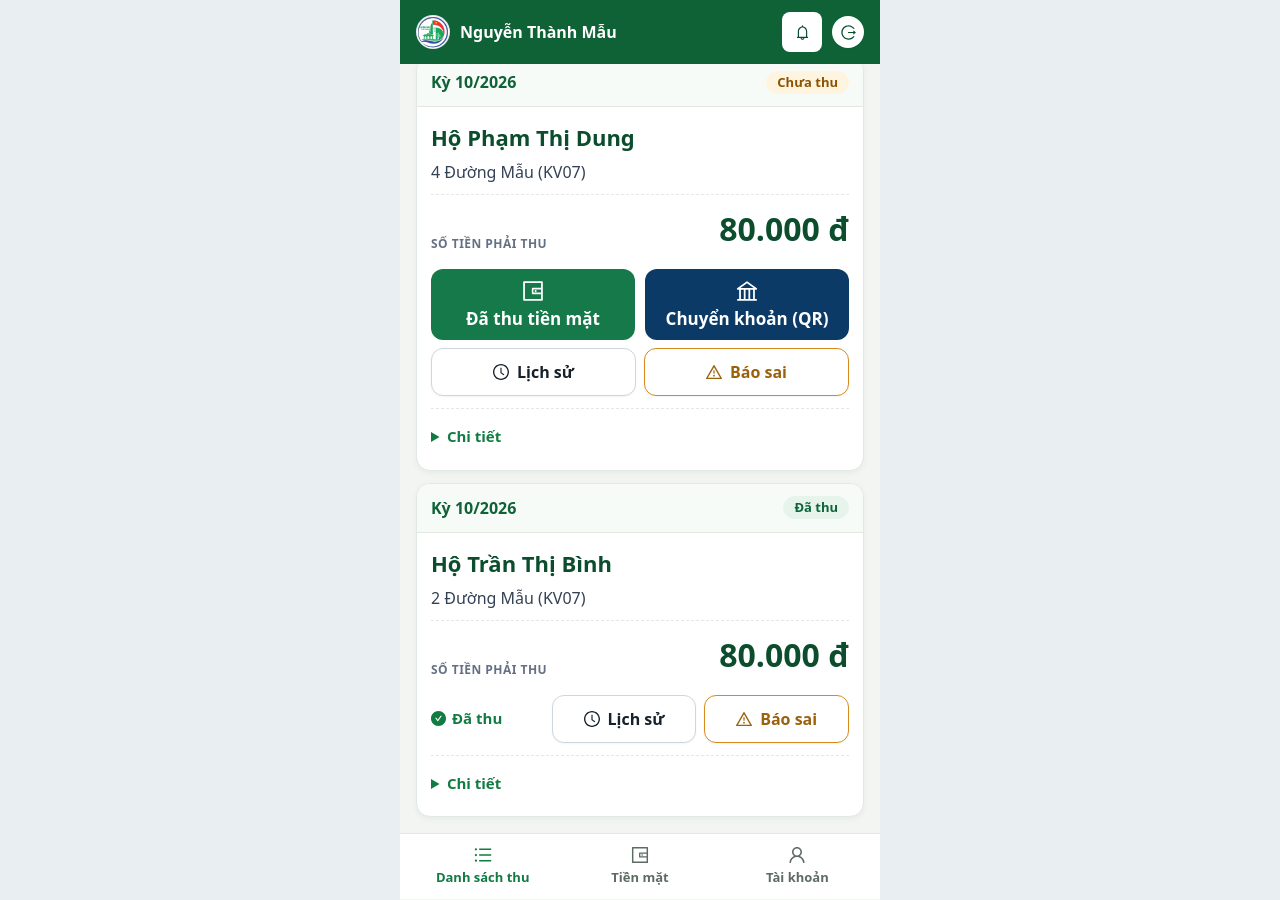
Người đi thu: lịch sử hộ › mở từ danh sách, hiện các lần thu theo thời gian
(page scrolled)
Click the button "Lịch sử" below "2 Đường Mẫu": (624, 719) [552, 695, 696, 743]
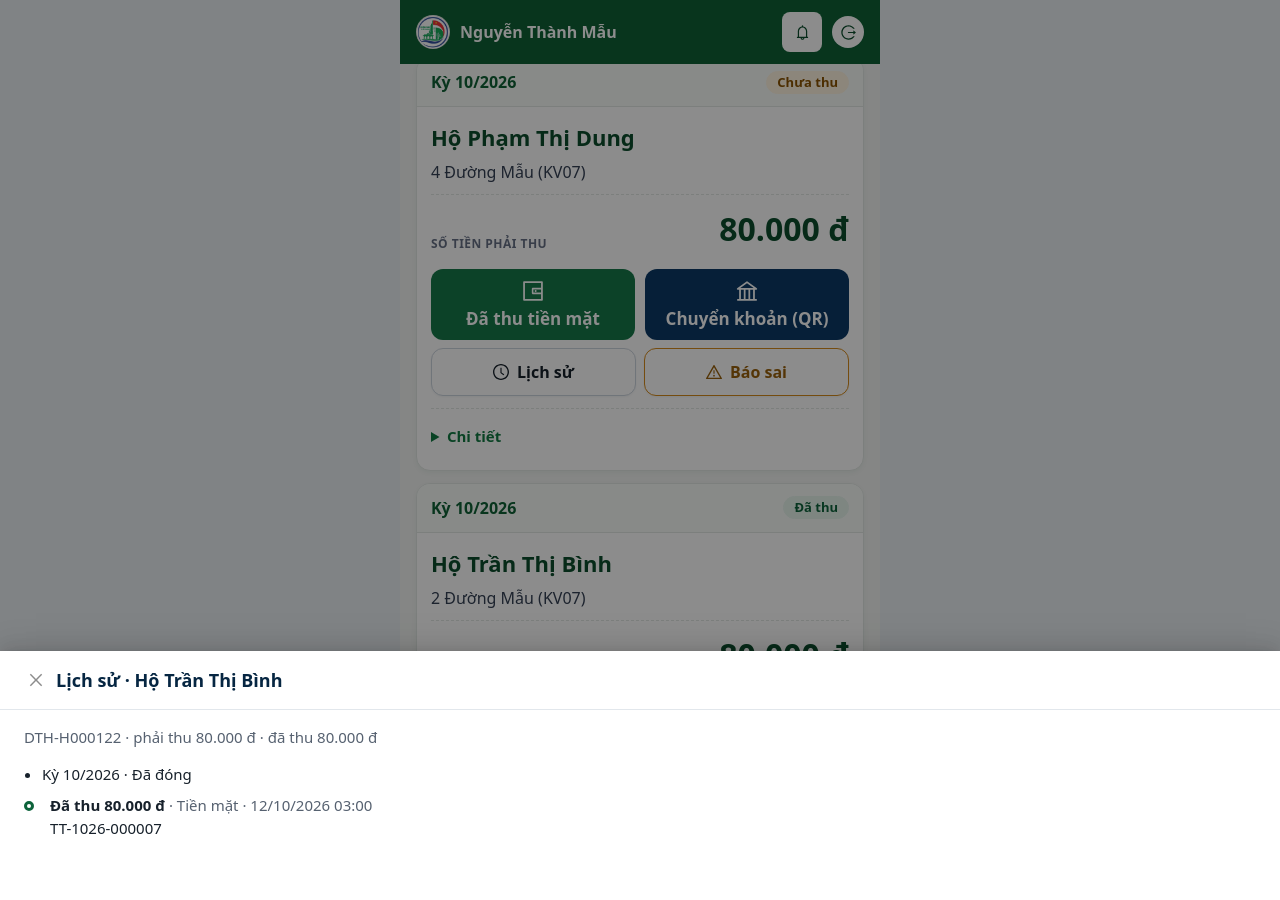
Now the text "Đã thu 80.000 đ" is shown, box [50, 795, 165, 815]
